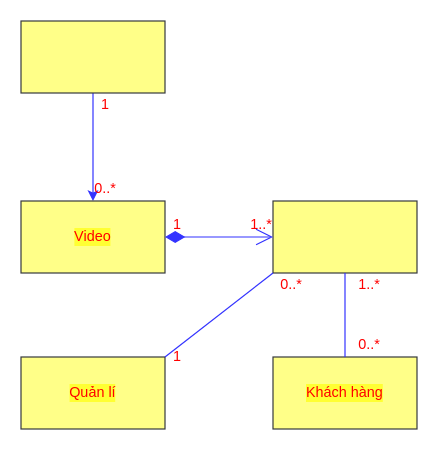
Some shapes in this 438 by 450 pixel diagram are drawn without their labels. Here are the shapes that lost their labels. From the top down, the box of each, then its label:
(20, 20, 165, 93): Đăng kí thành viên
(272, 200, 417, 273): Danh Sách Video
